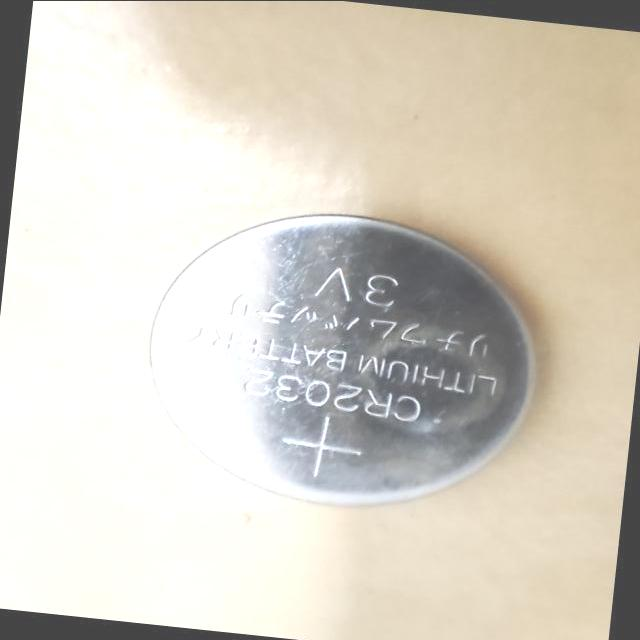COIN: (132, 195, 550, 528)
